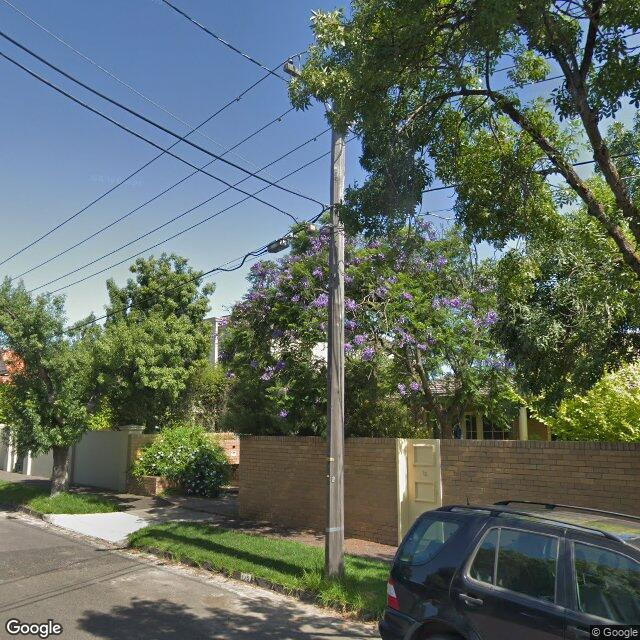crossarm: (284, 61, 354, 98)
timber-pole: (325, 126, 346, 577)
